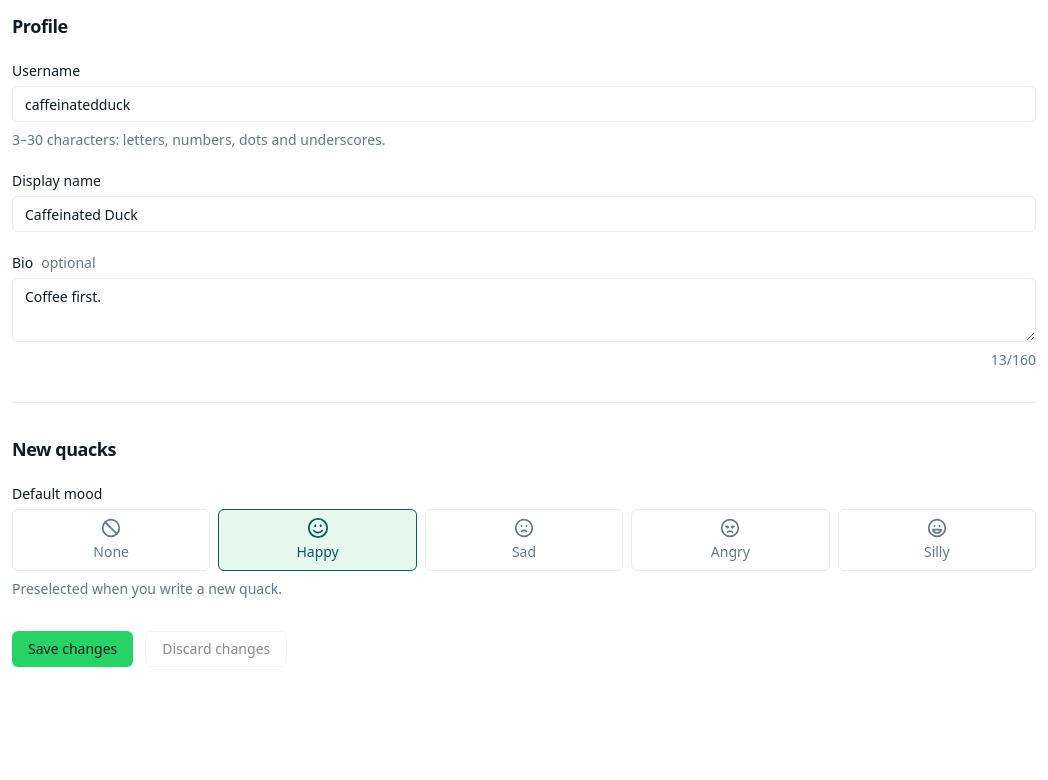
Test case: SettingsForm › requires a display name
Clear the field labelled "Display name" at (524, 214), box [12,196,1036,232]
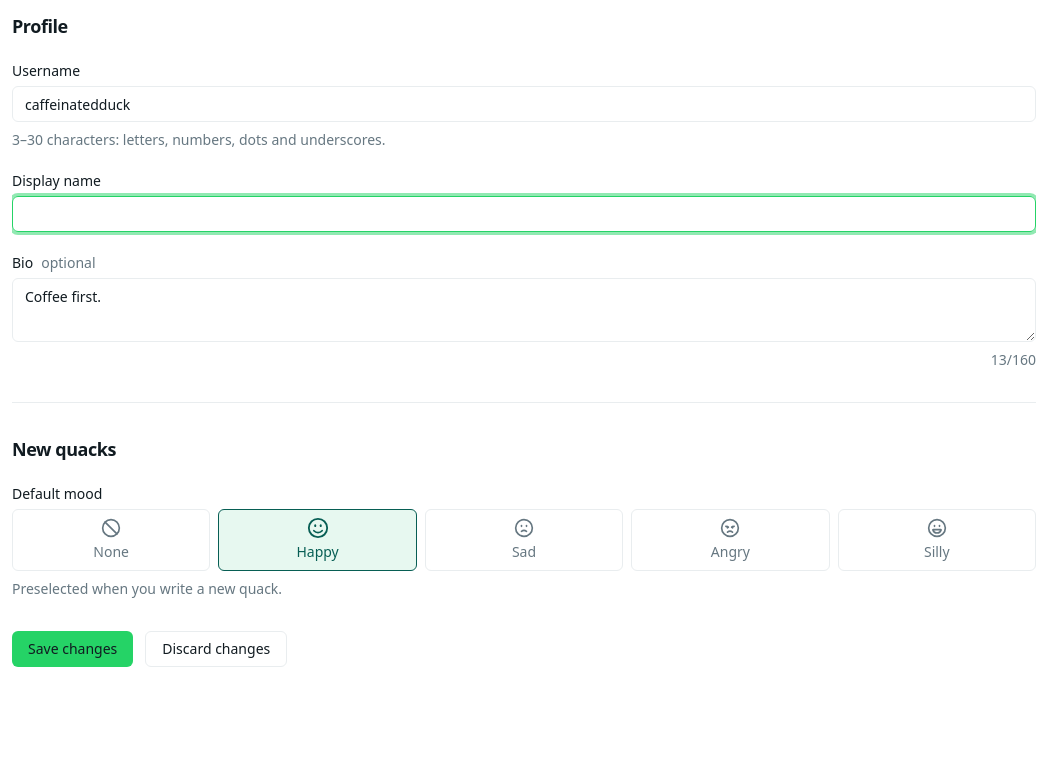
Click the button "Save changes" at (73, 649), box [12,631,133,667]
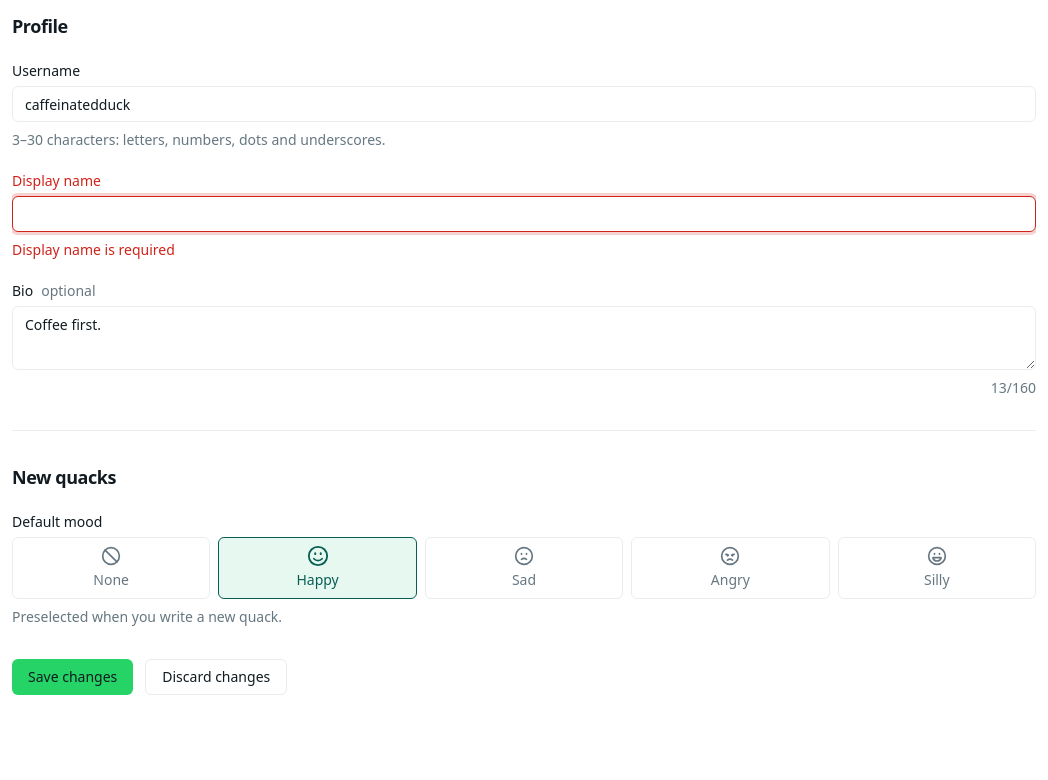
expect the text "Display name is required" is shown: met, box [12,240,175,259]
